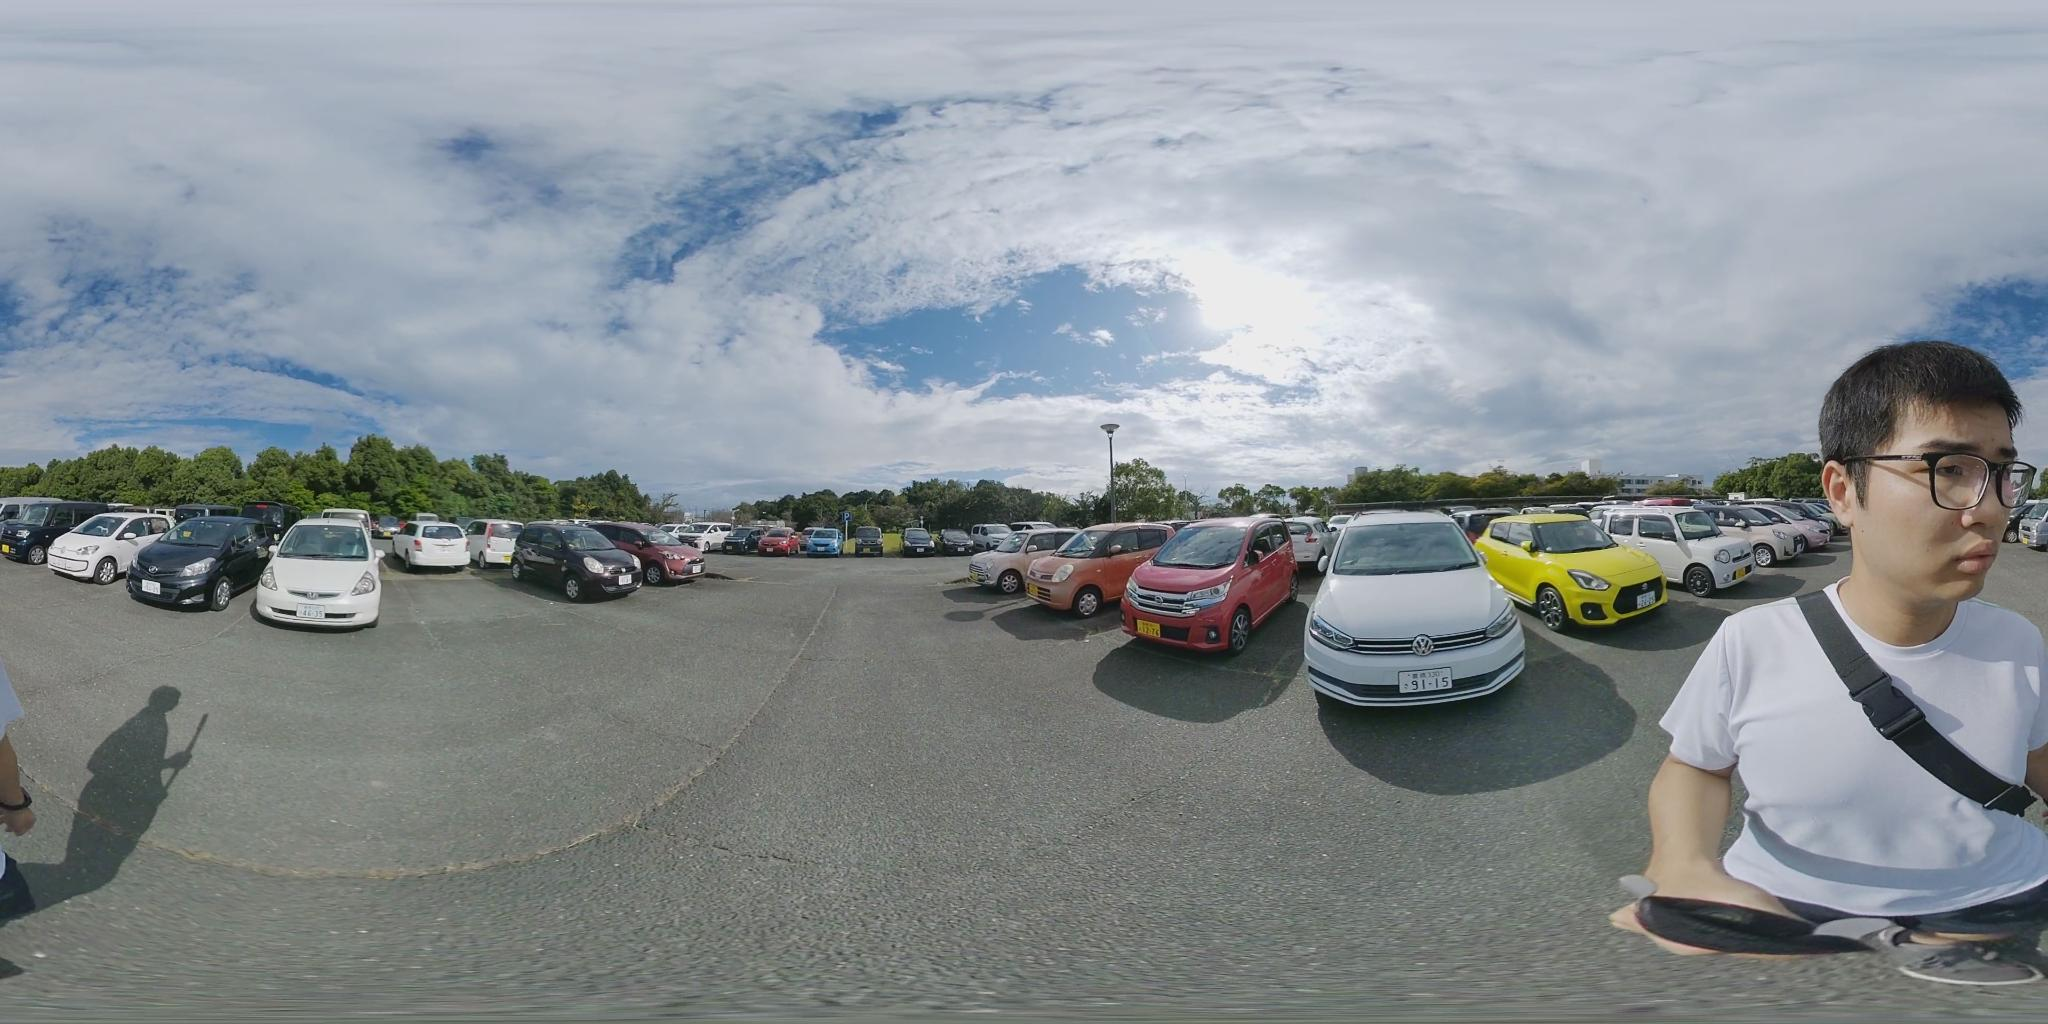car: (1302, 513, 1533, 703), (1119, 515, 1302, 654), (1465, 513, 1678, 631), (1590, 508, 1784, 593), (1015, 526, 1192, 616), (251, 519, 387, 633), (120, 520, 272, 614), (47, 509, 183, 583), (516, 521, 639, 600), (0, 498, 120, 563), (1718, 503, 1840, 559), (596, 522, 708, 583), (397, 522, 468, 569), (755, 530, 802, 556), (805, 530, 845, 555)
